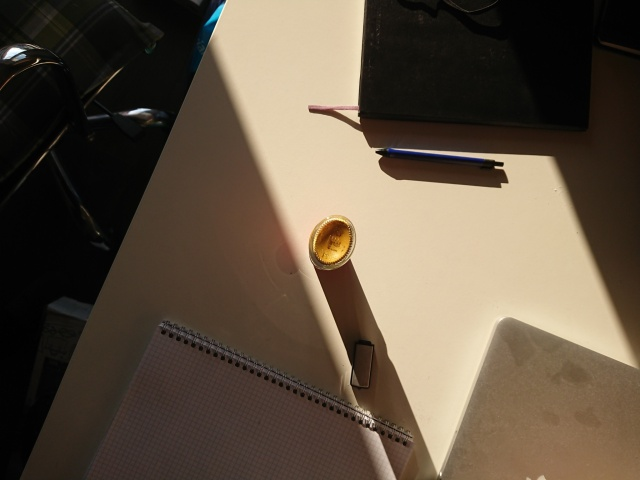Kotanyi Curry Spices Mix 70g: (307, 213, 357, 273)
